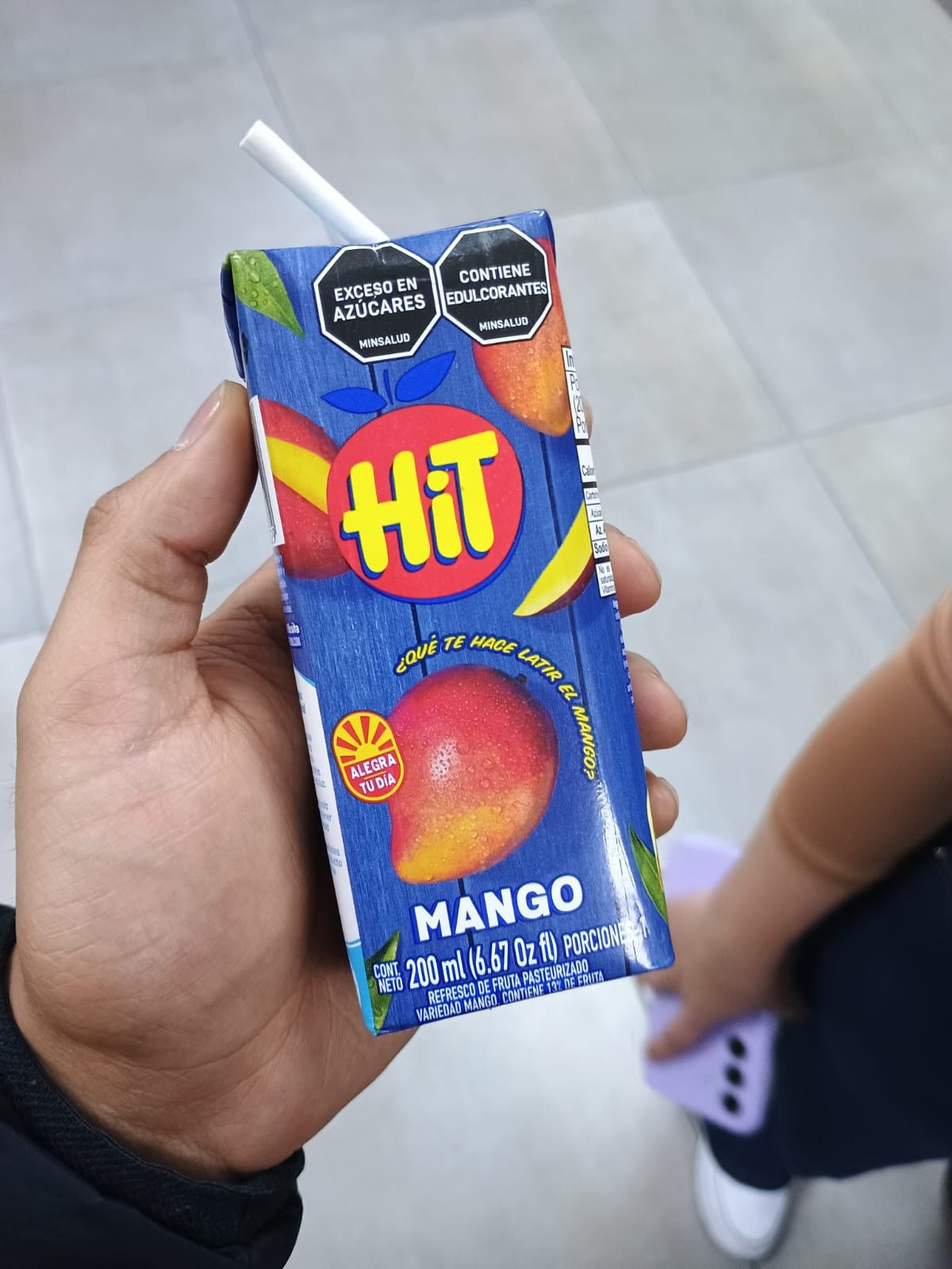Carton: (221, 209, 674, 1030)
